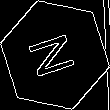N_E: (26, 28, 84, 82)
